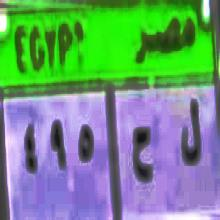4: (23, 116, 40, 178)
5: (78, 114, 103, 168)
7aa: (130, 116, 156, 186)
9: (48, 111, 66, 174)
laam: (177, 95, 203, 173)
